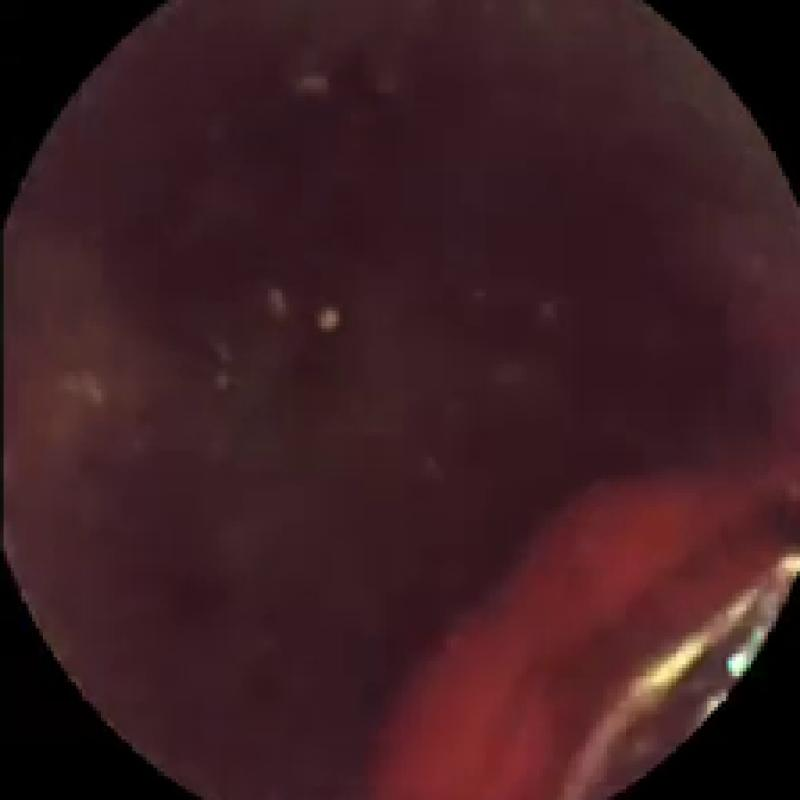bleeding: (368, 468, 786, 800)
